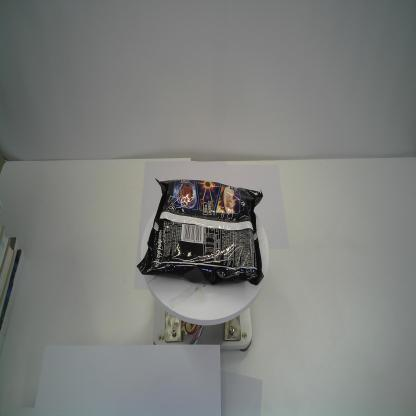Instant Noodles: (136, 177, 265, 287)
